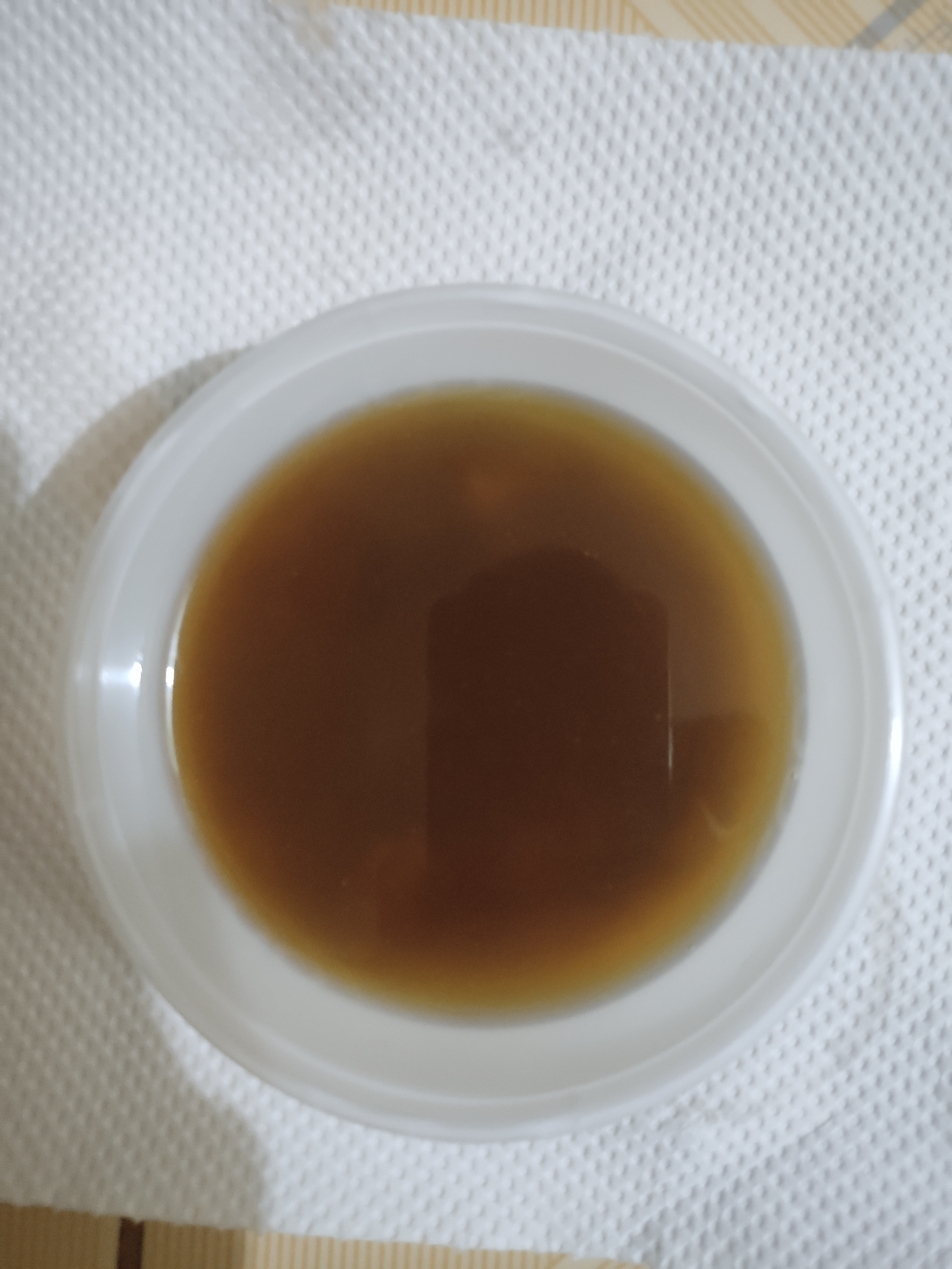non-reusable: (178, 407, 767, 1012)
